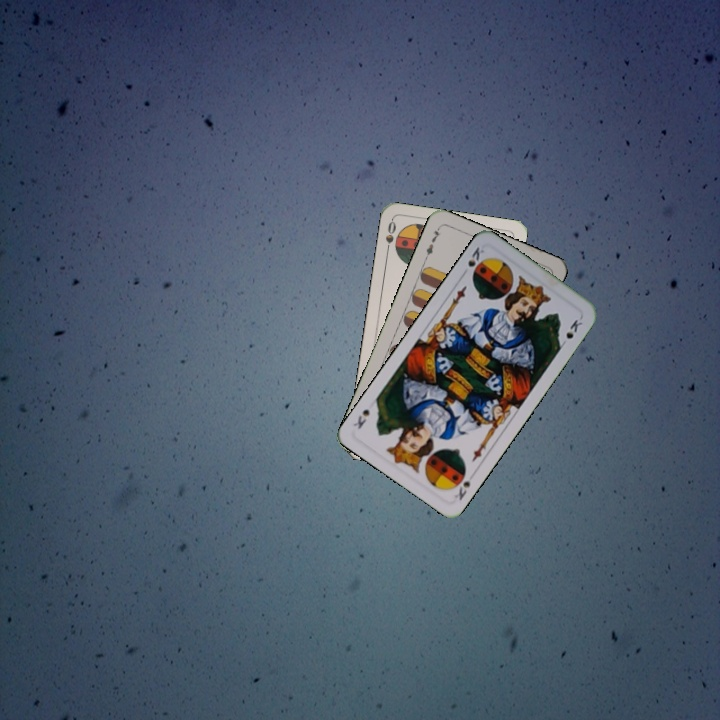E7: (421, 223, 443, 262)
SK: (450, 466, 478, 503), (464, 243, 487, 279)
SO: (381, 216, 398, 257)
